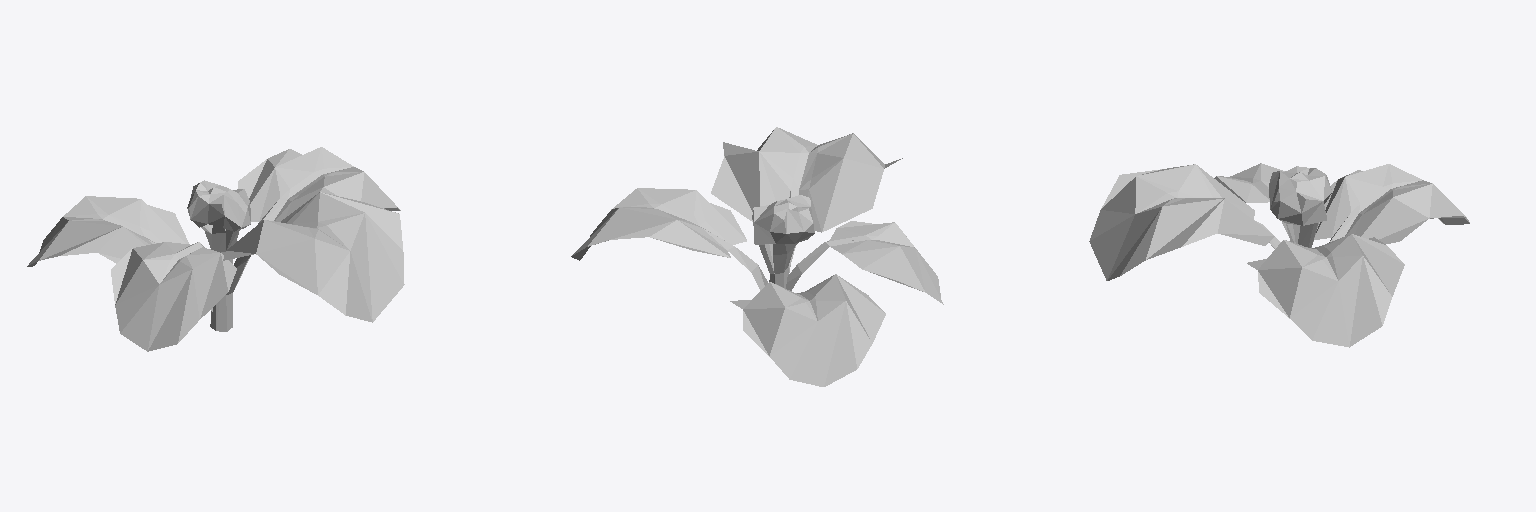
File: SM_Prop_Broccoli_01_M.obj
3 renders of one model, left to right at view 1: azimuth 30°, elevation 25°; view 2: azimuth 150°, elevation 25°; view 3: azimuth 270°, elevation 25°, orthographic.
Bounding box in the file's own units: 59.6 × 26.67 × 61.15.